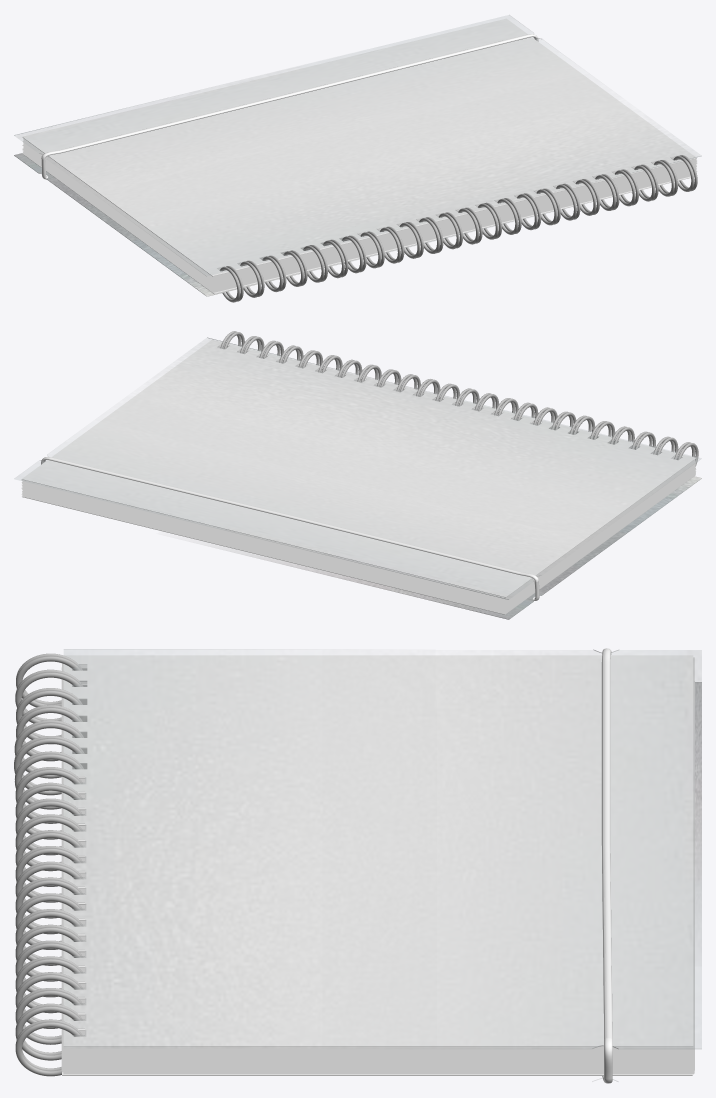
File: product.glb
3 renders of one model, top to bottom at view 1: azimuth 30°, elevation 25°; view 2: azimuth 150°, elevation 25°; view 3: azimuth 270°, elevation 25°, orthographic. The views are drawn at different scales.
Parts seen in each view (by area): view 1: FrontCover.002, PlasticFilm.003, Papers.006, Spiral, BezierCurve.003, BackCover.001; view 2: FrontCover.002, PlasticFilm.003, Papers.006, Spiral, BezierCurve.003, BackCover.001; view 3: FrontCover.002, PlasticFilm.003, Papers.006, Spiral, BezierCurve.003, BackCover.001.
Part boxes in pixels (bbox=[...]): FrontCover.002: bbox=[22, 18, 696, 276]; PlasticFilm.003: bbox=[14, 15, 701, 296]; Papers.006: bbox=[22, 138, 697, 292]; Spiral: bbox=[219, 155, 697, 302]; BezierCurve.003: bbox=[41, 34, 538, 179]; BackCover.001: bbox=[24, 155, 694, 294]; FrontCover.002: bbox=[21, 339, 696, 597]; PlasticFilm.003: bbox=[14, 337, 701, 619]; Papers.006: bbox=[21, 345, 696, 614]; Spiral: bbox=[220, 331, 698, 466]; BezierCurve.003: bbox=[41, 456, 539, 600]; BackCover.001: bbox=[22, 475, 695, 614]; FrontCover.002: bbox=[63, 655, 693, 1046]; PlasticFilm.003: bbox=[64, 649, 701, 1081]; Papers.006: bbox=[61, 657, 694, 1074]; Spiral: bbox=[14, 653, 84, 1076]; BezierCurve.003: bbox=[601, 648, 612, 1083]; BackCover.001: bbox=[62, 1072, 692, 1075].
Size of the model in its own units: 20.88 by 1.37 by 15.14.
4 materials, 1 textured.
